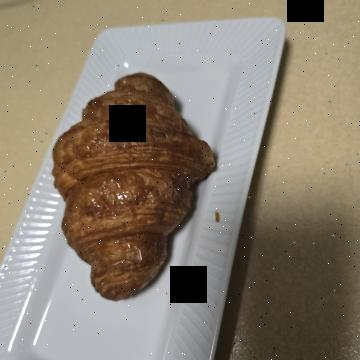croissant: (55, 126, 307, 307)
